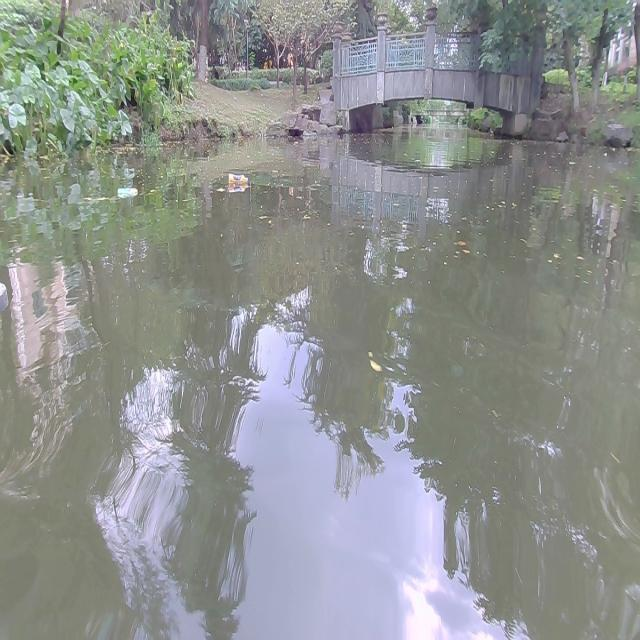bottle: (227, 172, 247, 184)
